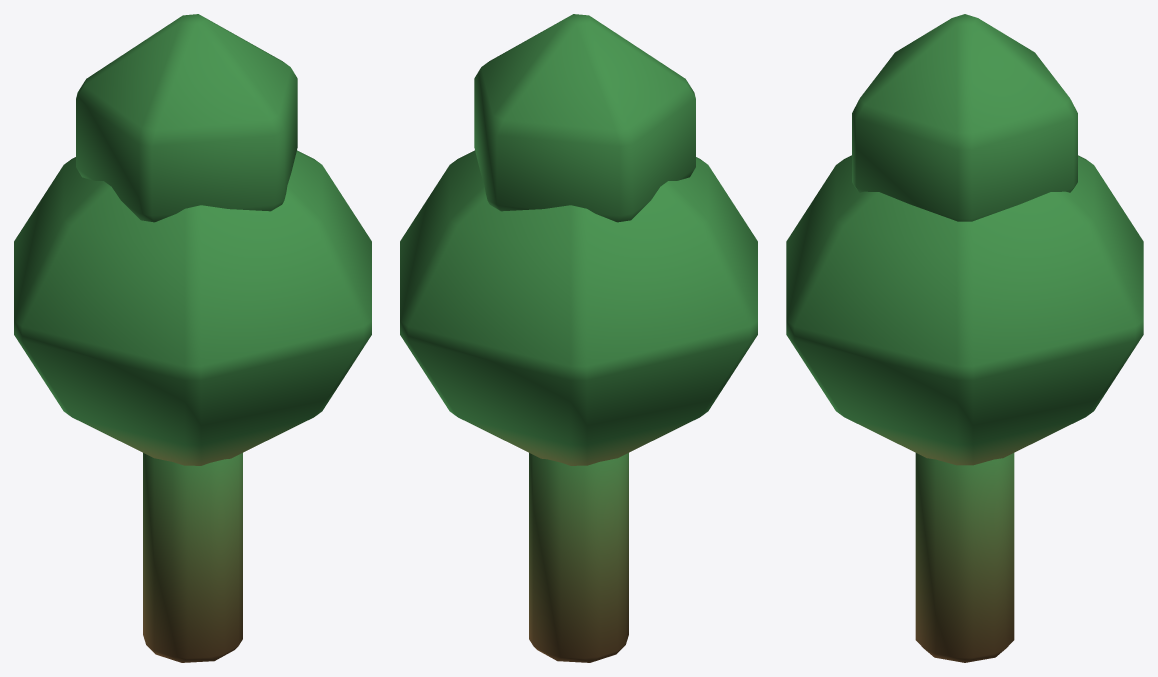
The model's file is tree.glb.
The picture shows the model from 3 angles, left to right: view 1: azimuth 30°, elevation 25°; view 2: azimuth 150°, elevation 25°; view 3: azimuth 270°, elevation 25°; orthographic projection.
Parts seen in each view (by area): view 1: Tree; view 2: Tree; view 3: Tree.
Boxes of the visible parts, <box> form: Tree: <box>14,14,371,662</box>; Tree: <box>400,14,757,662</box>; Tree: <box>786,14,1143,662</box>.
Bounding box in the file's own units: 0.2295 × 0.3926 × 0.2033.
